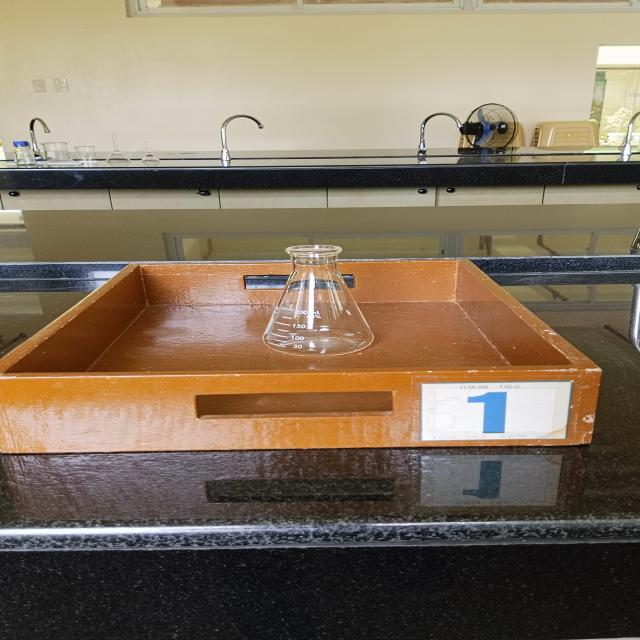erlenmeyer_flask: (246, 242, 388, 358)
